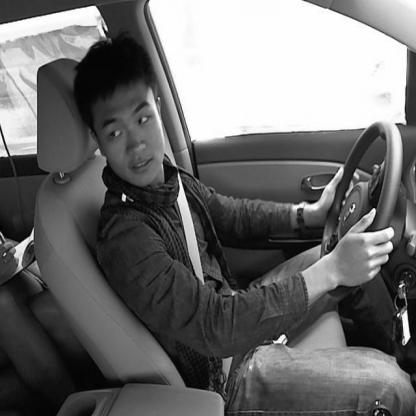seatbelt: (64, 39, 218, 274)
